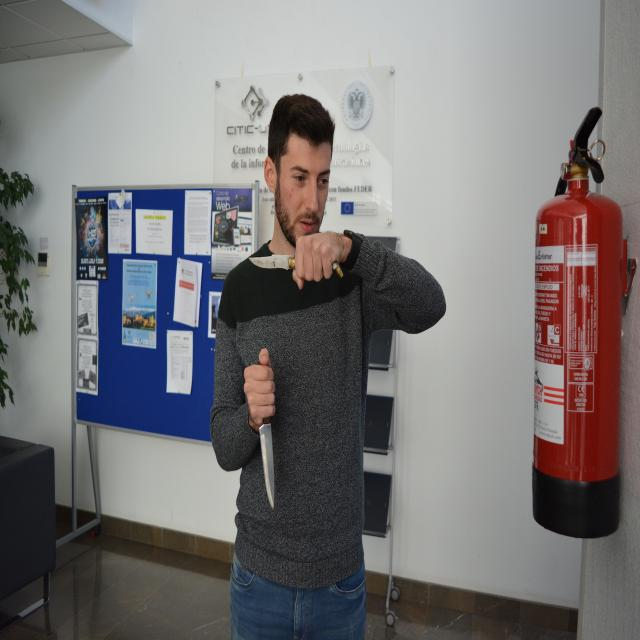knife: (256, 408, 282, 516), (250, 250, 293, 282)
